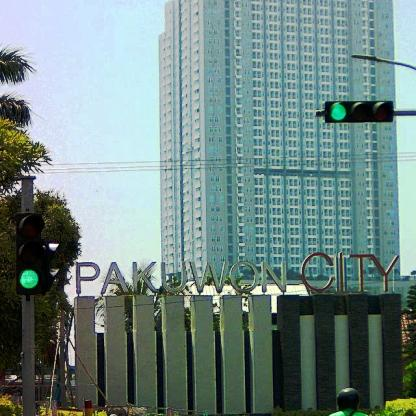Traffic Light -Green-: (16, 212, 44, 295), (325, 102, 396, 124)
